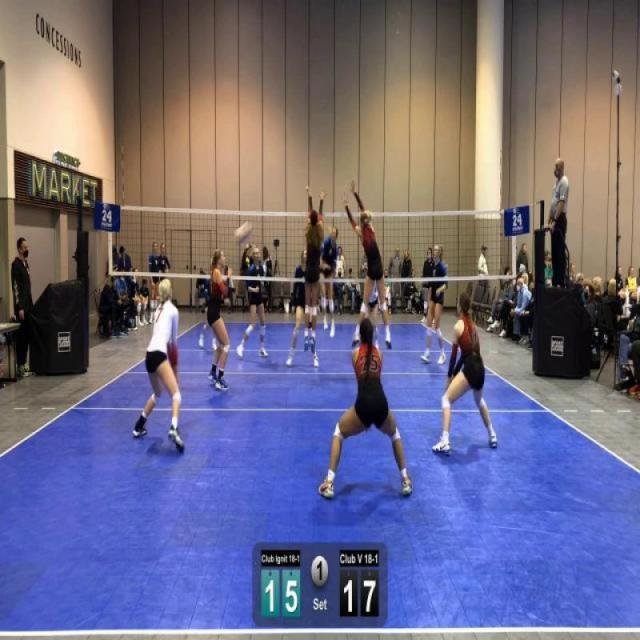volleyball: (233, 219, 253, 248)
